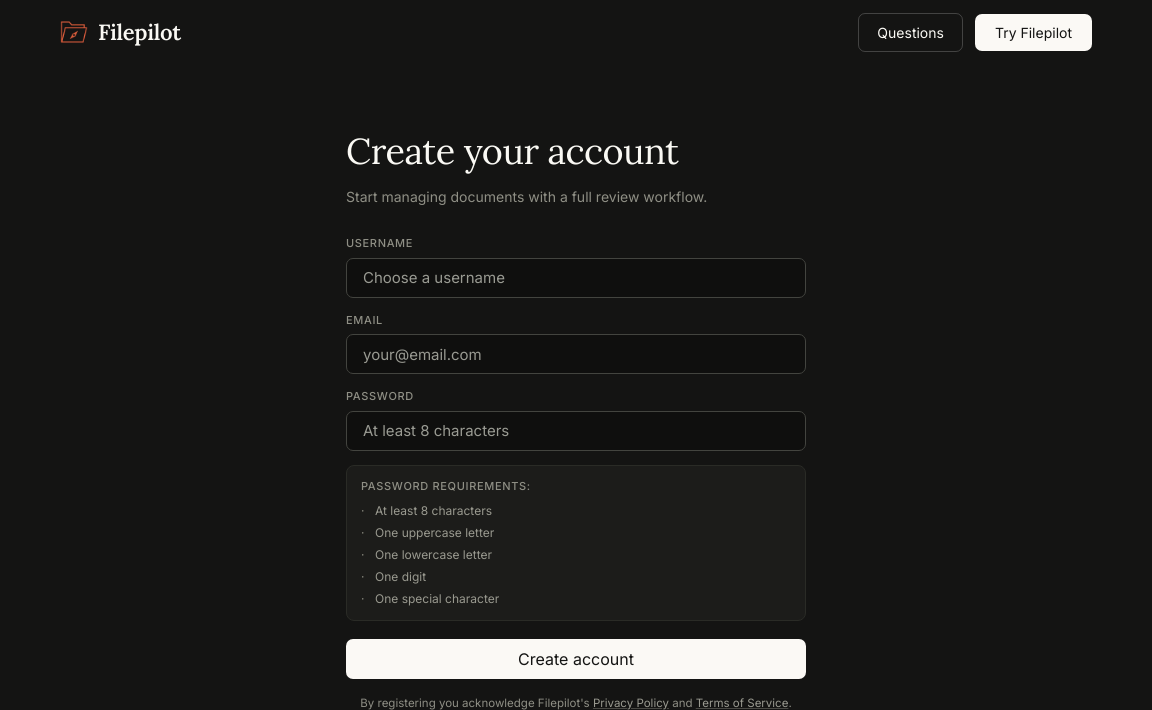
RegisterPage – password strength checker › shows "Weak" for a one-character password
Type "a" into the password field with placeholder "At least 8 characters". click: {"x": 576, "y": 430}
box: x1=346 y1=410 x2=806 y2=450
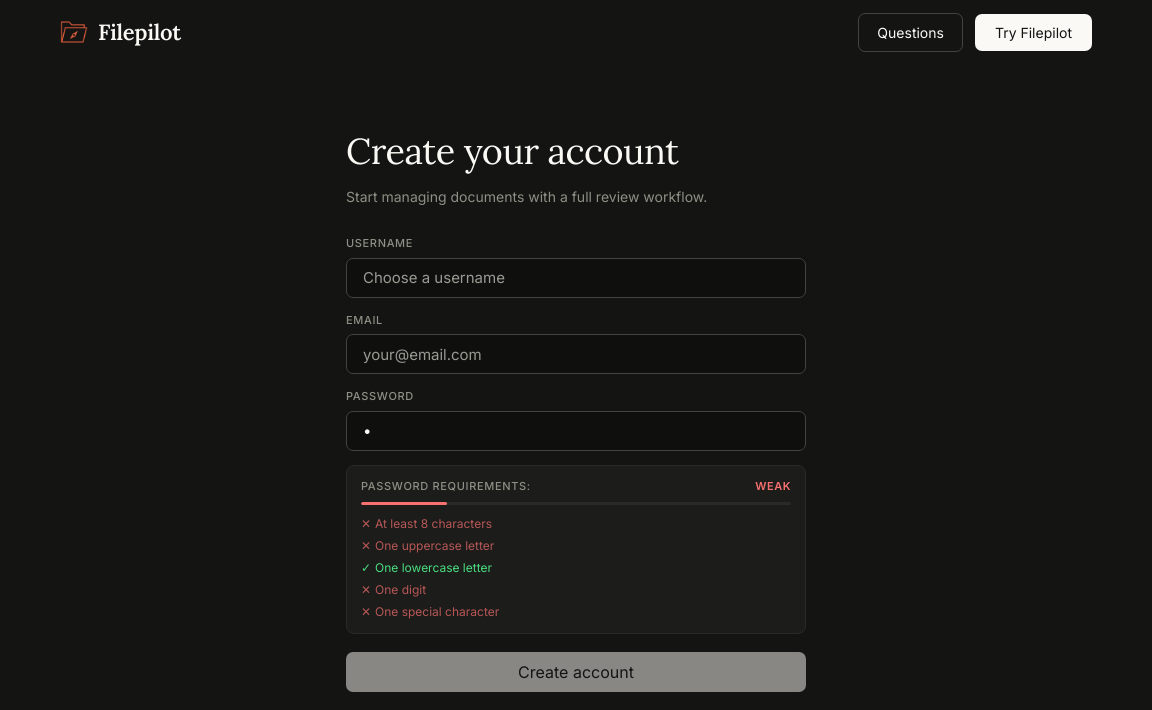
Expected: the text "Weak" is shown, x1=755 y1=478 x2=791 y2=494
